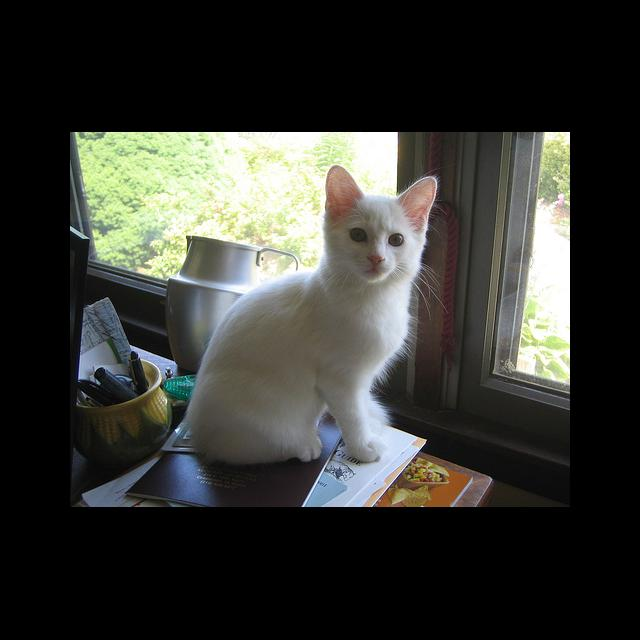animals: (331, 166, 433, 264)
